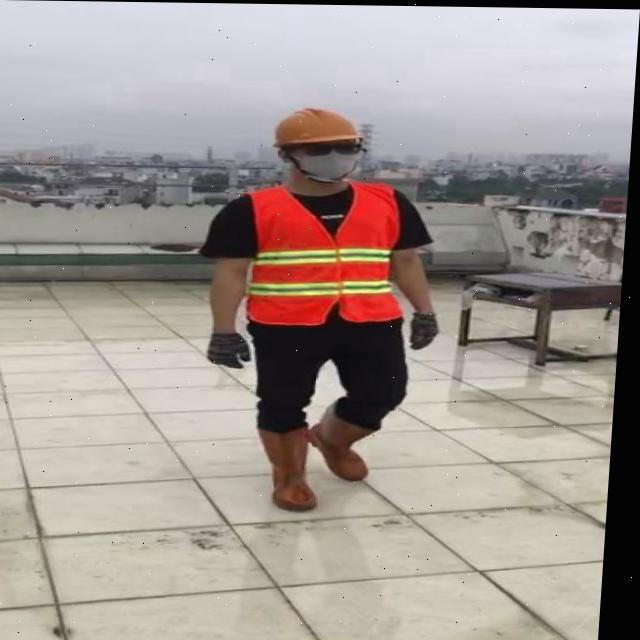Gloves: (211, 329, 257, 367), (412, 310, 444, 349)
Helmet: (272, 105, 366, 181)
Safety-Boot: (309, 397, 385, 480), (259, 421, 328, 510)
Safety-Vest: (240, 177, 414, 326)
